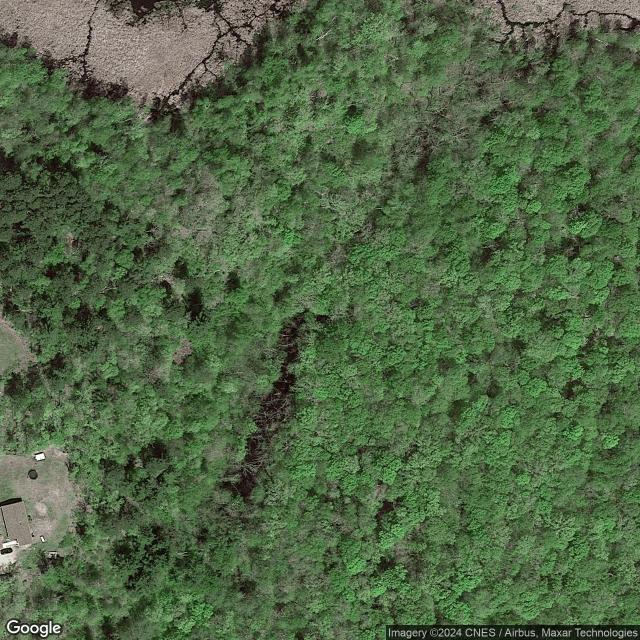Propane: (38, 535, 46, 545)
